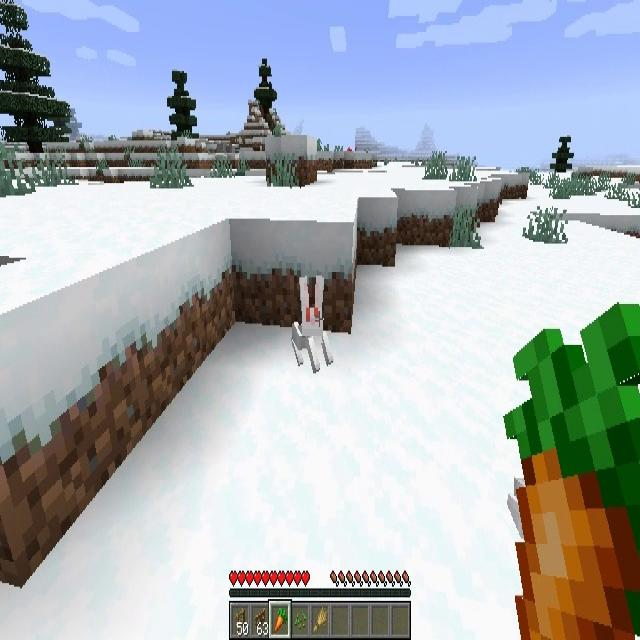rabbit: (293, 275, 334, 372)
